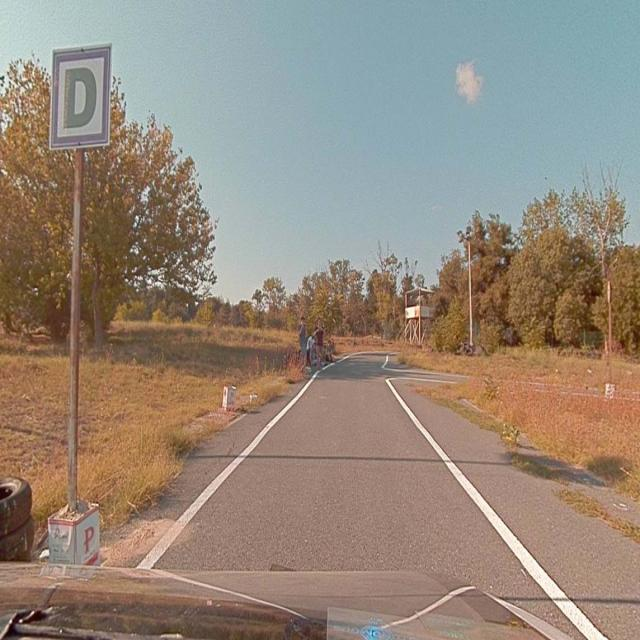durak: (53, 48, 107, 148)
